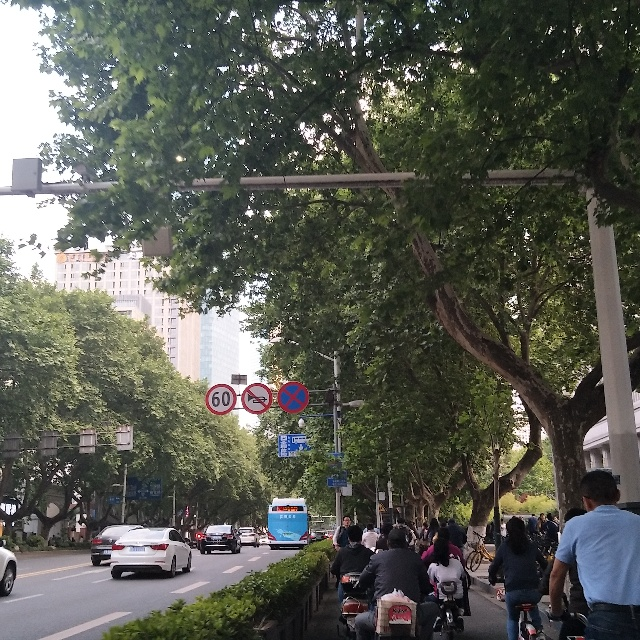nohonk: (244, 383, 266, 414)
stop: (281, 380, 308, 413)
